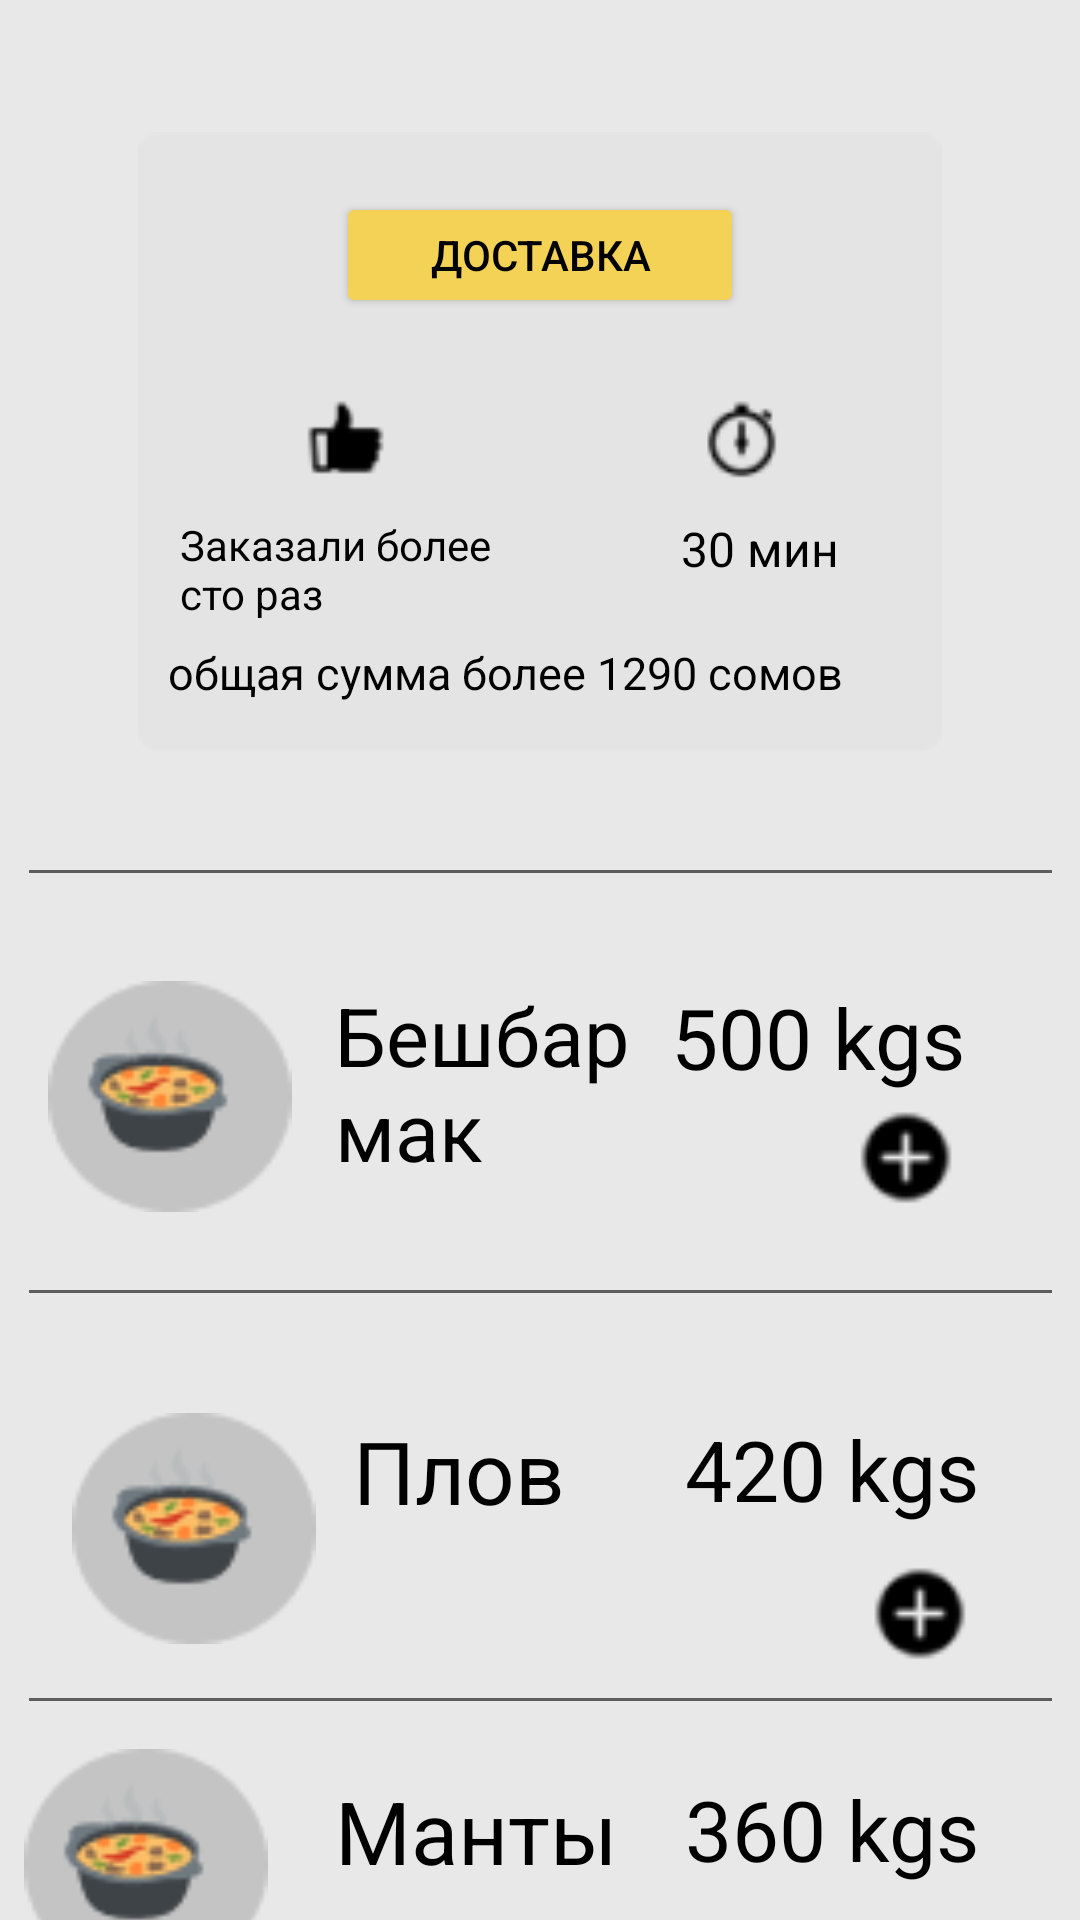

Point at icon controls on the screen. Image size 1080px x 1920px, points as point (x, y).
plus: point (906, 1157)
